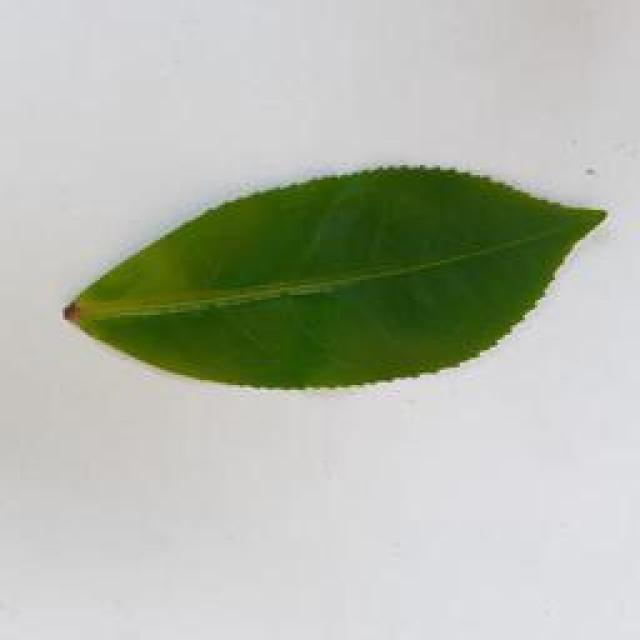Healthy: (53, 166, 612, 393)
